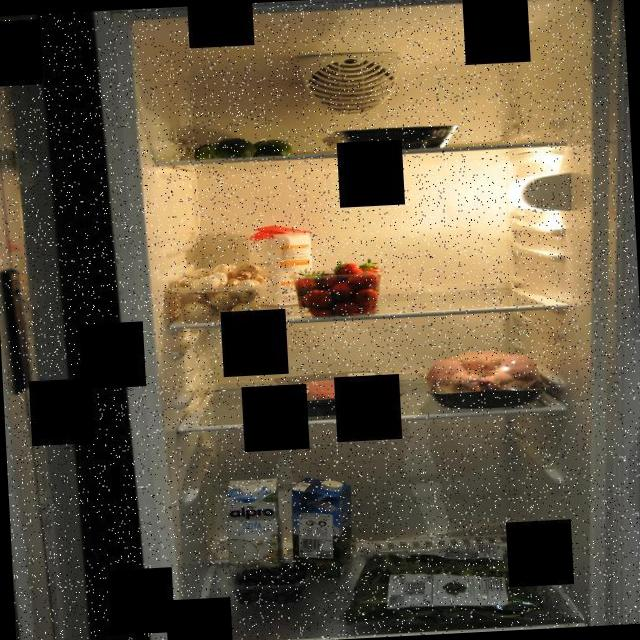Carne pollo: (418, 344, 552, 410)
Champiñones: (175, 258, 272, 326)
Leche: (291, 474, 356, 579), (224, 475, 291, 574)
